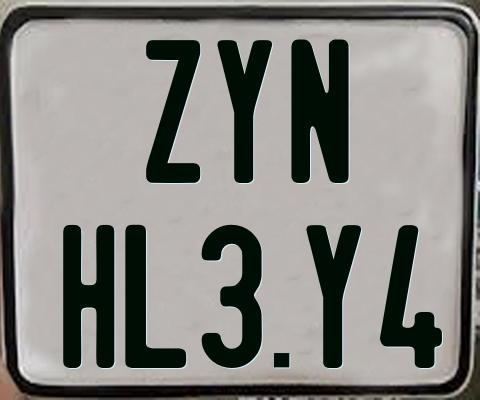3: (201, 222, 266, 366)
4: (379, 224, 445, 371)
H: (63, 224, 115, 369)
L: (122, 222, 183, 368)
N: (288, 36, 352, 184)
Y: (217, 37, 278, 182), (305, 222, 360, 365)
Z: (144, 40, 199, 185)
